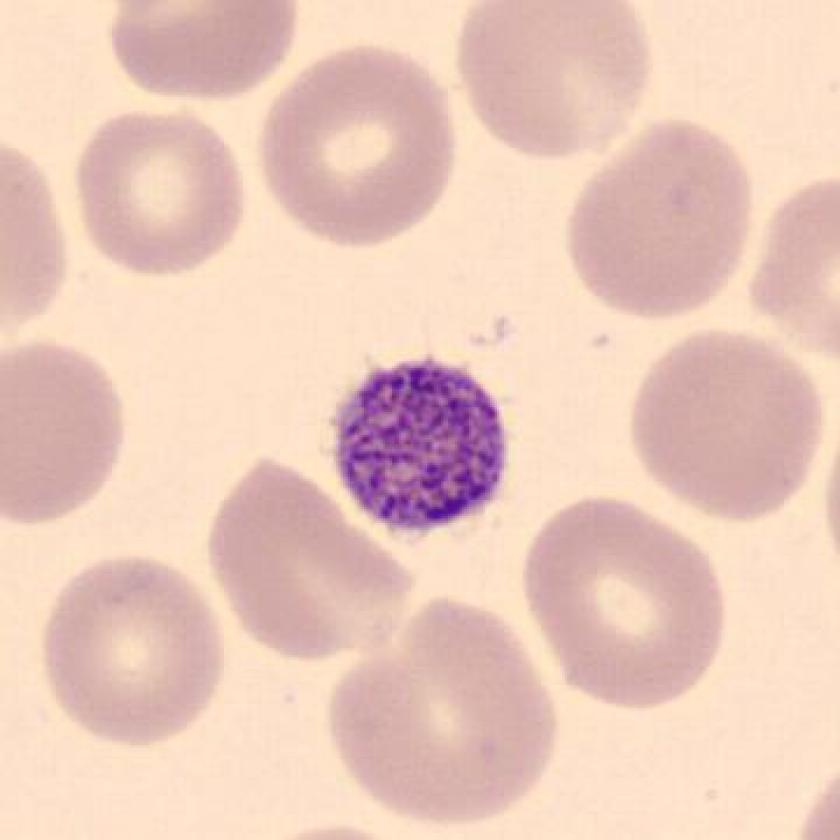platelets: (316, 346, 521, 552)
